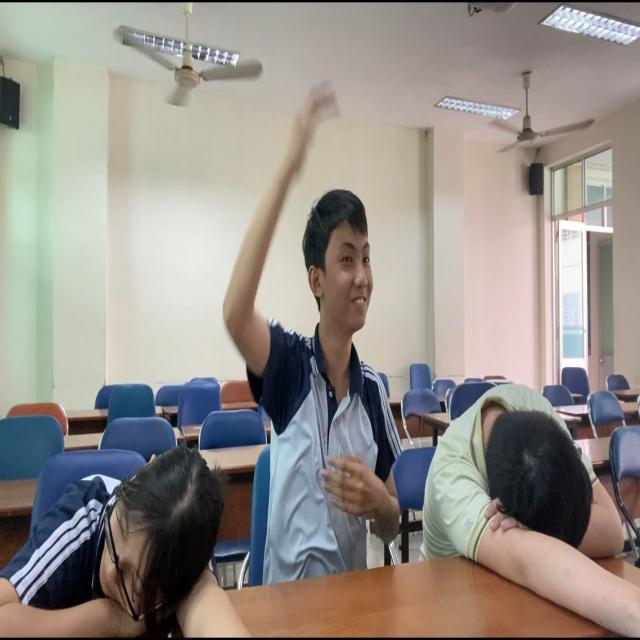sleep: (420, 306, 640, 640), (2, 339, 215, 640)
